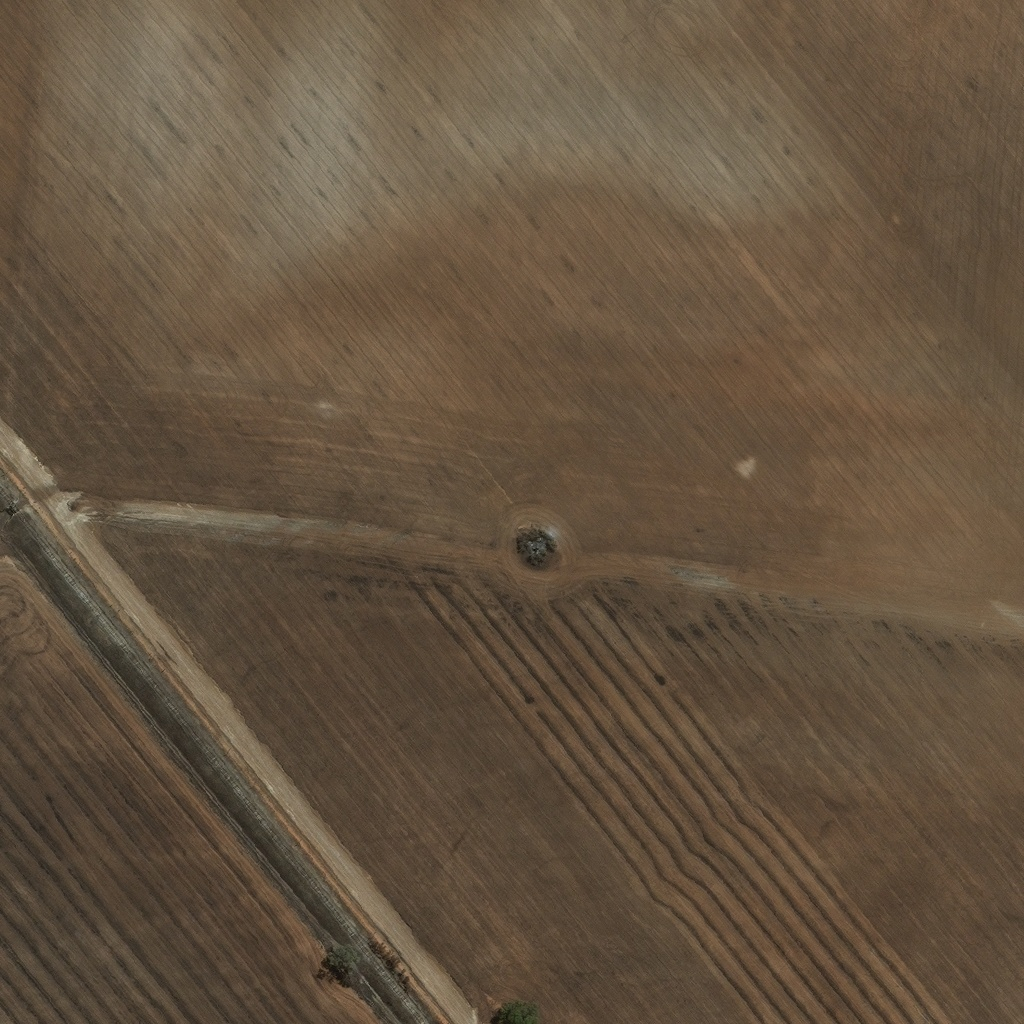4 un-classified: (948, 556, 959, 567), (602, 522, 612, 533), (340, 493, 350, 503), (713, 533, 722, 542), (176, 484, 184, 492), (109, 477, 117, 485)
